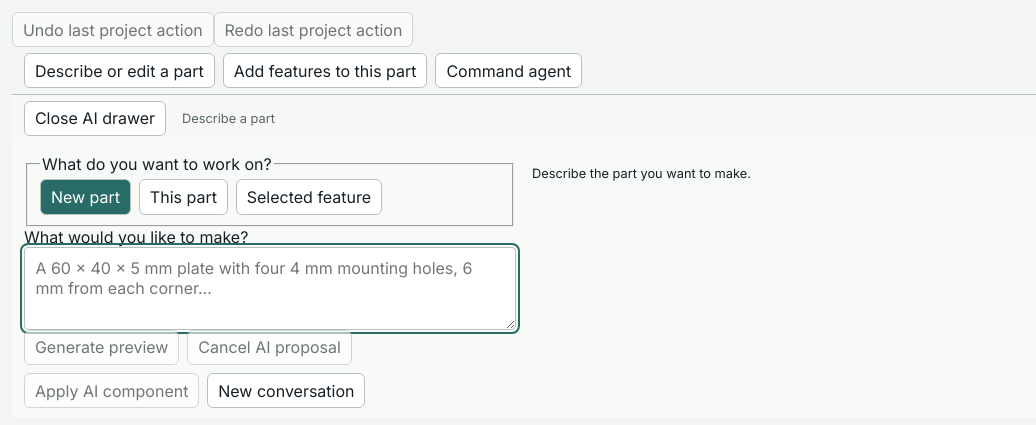
rejects a provider changing another field after resolving a selected-feature request
Click the button "Selected feature" at (309, 197), box [236,179,382,215]
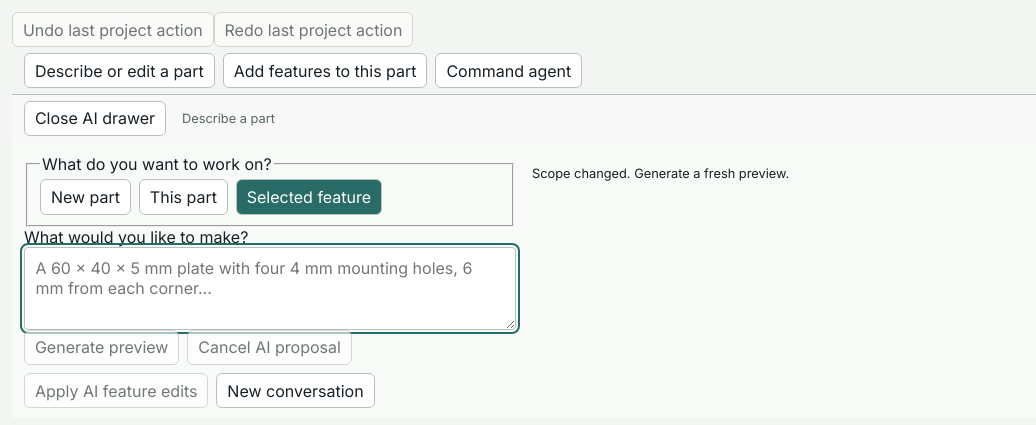
Replace the text in the text box labelled "What would you like to make?" with "Make this thicker" at (270, 288), box [24,247,516,330]
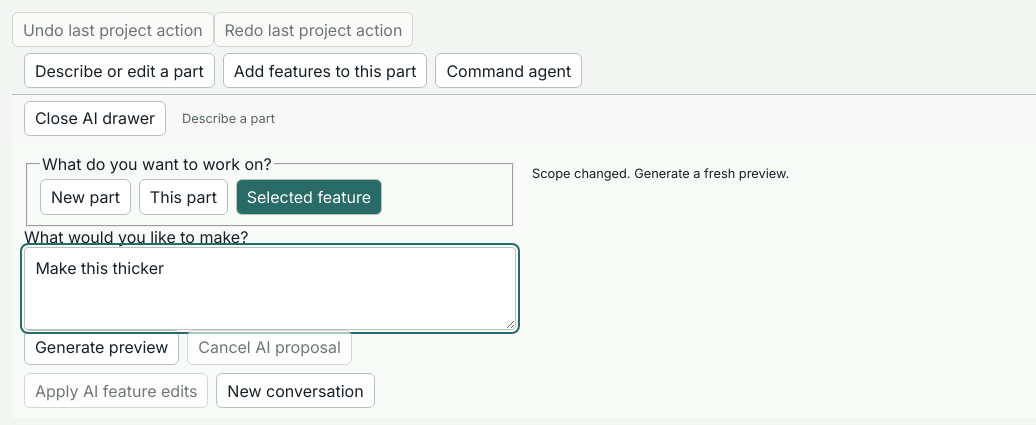
Click the button "Generate preview" at (102, 347), box [24,330,179,365]
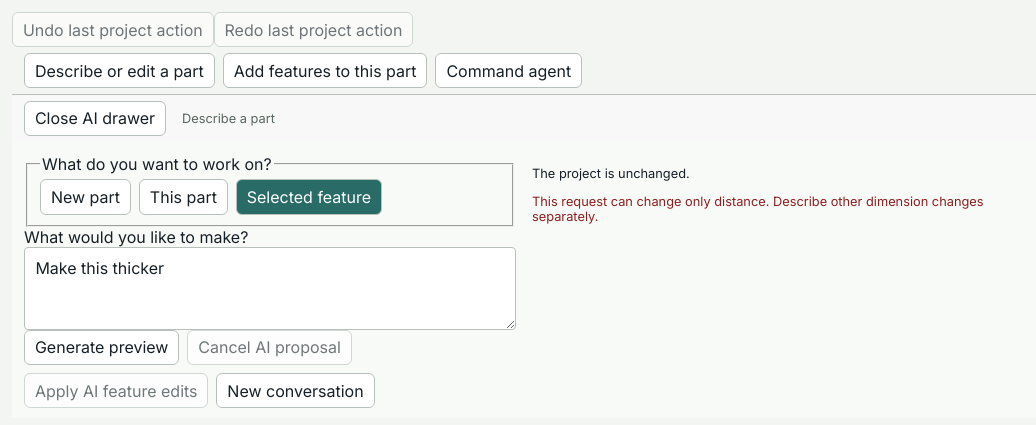
Now the text "This request can change only distance" is shown, box [532,194,984,224]
